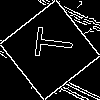T: (25, 25, 74, 61)
